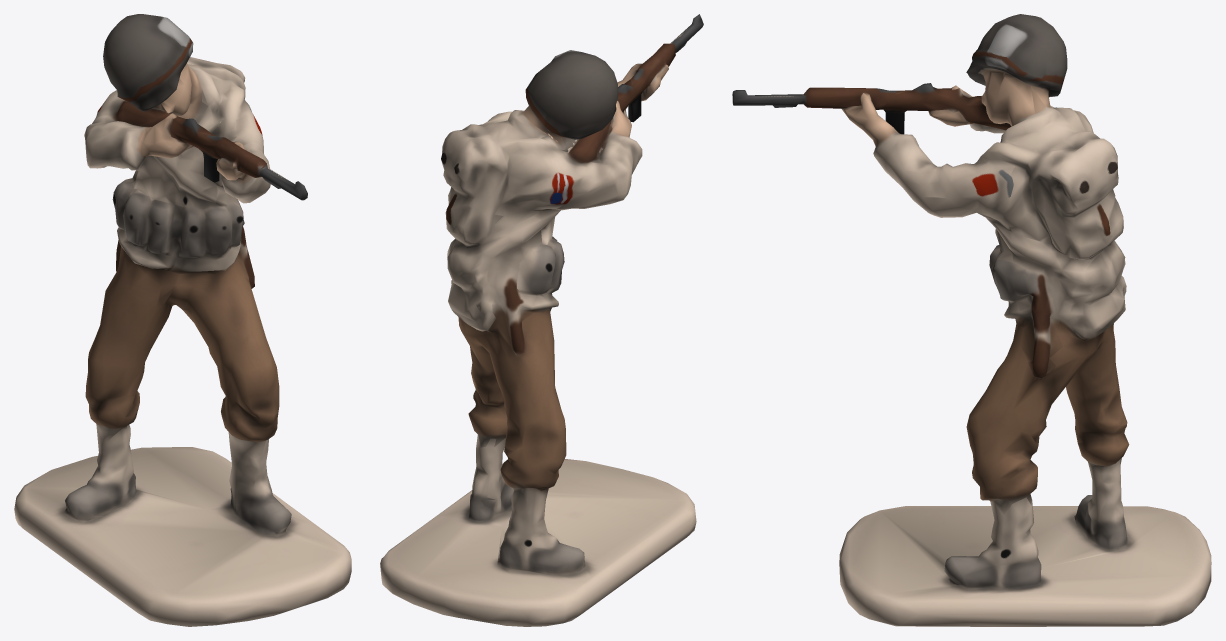
The model's file is player.fbx.
3 views of the same model, side by side, from view 1: azimuth 30°, elevation 25°; view 2: azimuth 150°, elevation 25°; view 3: azimuth 270°, elevation 25° (orthographic). The views are drawn at different scales.
Parts seen in each view (by area): view 1: 14070_WWII_Soldier_with_Rifle; view 2: 14070_WWII_Soldier_with_Rifle; view 3: 14070_WWII_Soldier_with_Rifle.
Boxes of the visible parts, bbox=[...] form: 14070_WWII_Soldier_with_Rifle: bbox=[14, 14, 351, 626]; 14070_WWII_Soldier_with_Rifle: bbox=[380, 14, 703, 626]; 14070_WWII_Soldier_with_Rifle: bbox=[732, 14, 1211, 626].
Size of the model in its own units: 0.5804 by 1.44 by 1.16.
Materials: 1 (1 with a texture image).
